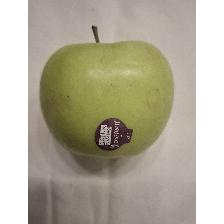Apfel: (38, 22, 178, 160)
